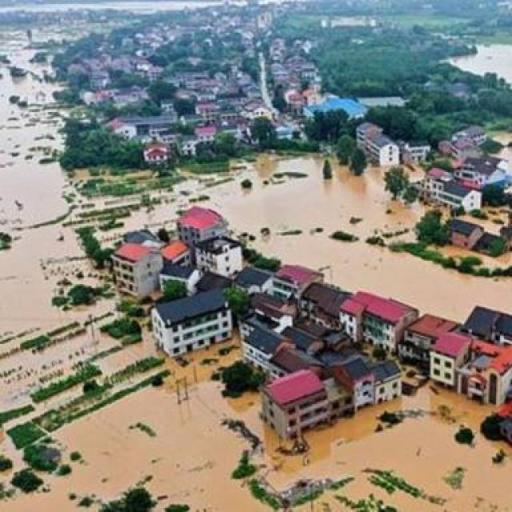flood: (0, 42, 512, 512), (63, 154, 512, 322), (457, 45, 512, 80), (492, 133, 512, 163)
house: (154, 285, 236, 357), (261, 363, 331, 447), (404, 312, 474, 396), (449, 321, 512, 411), (344, 285, 418, 356), (111, 236, 162, 299), (178, 201, 228, 252), (425, 169, 483, 211), (342, 358, 376, 415), (244, 326, 291, 366), (276, 258, 325, 296), (358, 122, 400, 166), (198, 237, 241, 279), (310, 285, 347, 331), (442, 215, 484, 251), (274, 346, 324, 375), (375, 357, 403, 404), (256, 294, 294, 328), (283, 324, 324, 354), (235, 264, 273, 296), (270, 59, 316, 85), (160, 239, 192, 270), (143, 140, 178, 167), (451, 123, 486, 147), (176, 71, 211, 90), (404, 139, 430, 164), (137, 59, 163, 81), (286, 89, 306, 116), (242, 100, 272, 118), (118, 118, 140, 139), (192, 125, 217, 141), (202, 103, 216, 125), (221, 108, 238, 126), (181, 138, 197, 155), (159, 98, 176, 111)
